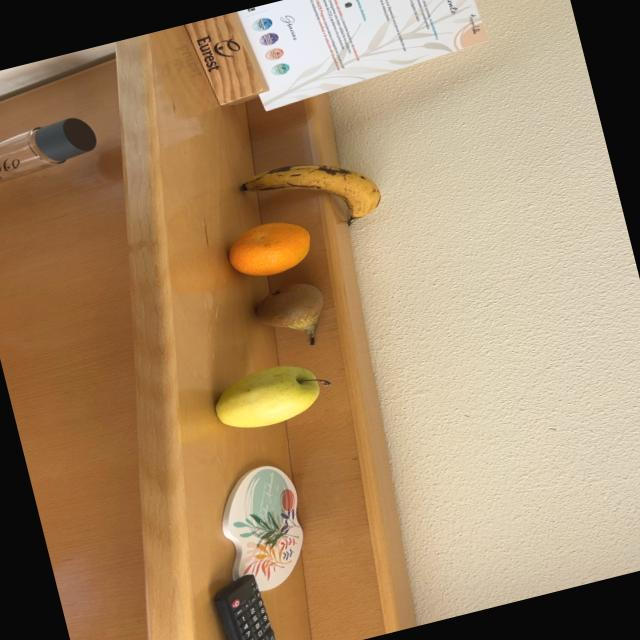apple: (216, 366, 319, 427)
bananas: (241, 164, 380, 224)
orange: (229, 222, 309, 275)
pear: (256, 283, 323, 344)
